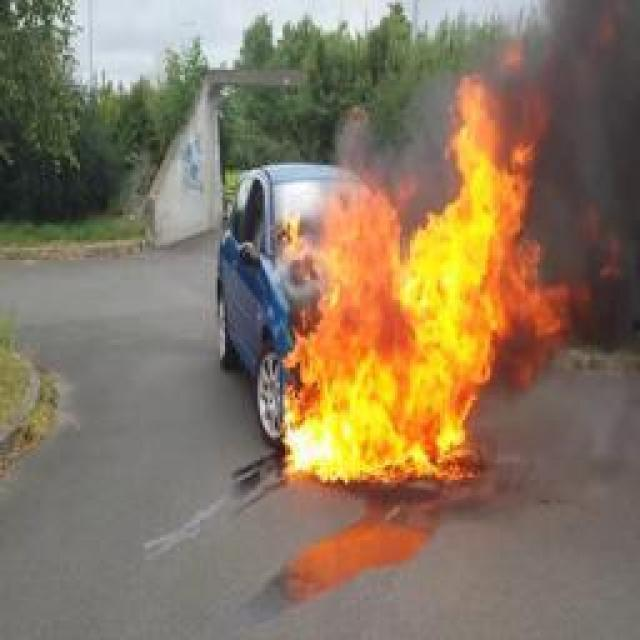Fire: (280, 41, 572, 479)
